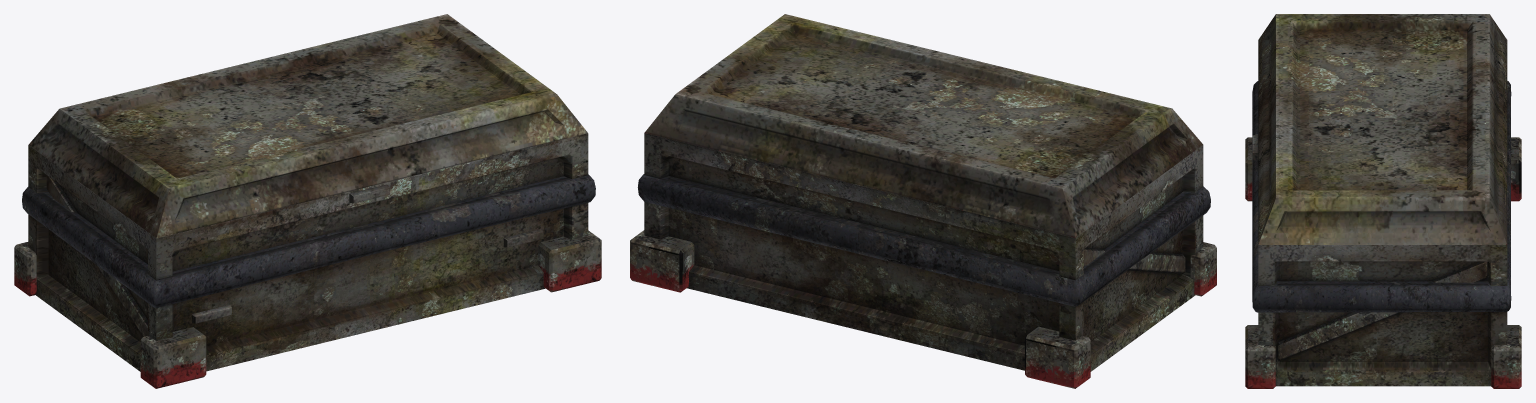
File: crate_flesher_small_base.DAE
The picture shows the model from 3 angles, left to right: view 1: azimuth 30°, elevation 25°; view 2: azimuth 150°, elevation 25°; view 3: azimuth 270°, elevation 25°; orthographic projection. The views are drawn at different scales.
Parts seen in each view (by area): view 1: base, lid; view 2: base, lid; view 3: lid, base.
Part boxes in pixels (box(x1,y1,x2,y2)): base: box(14, 133, 601, 388); lid: box(28, 14, 587, 238); base: box(630, 133, 1216, 388); lid: box(644, 14, 1202, 237); lid: box(1258, 14, 1507, 244); base: box(1245, 81, 1521, 388).
Bounding box in the file's own units: 1.77 × 0.6896 × 0.9725.
